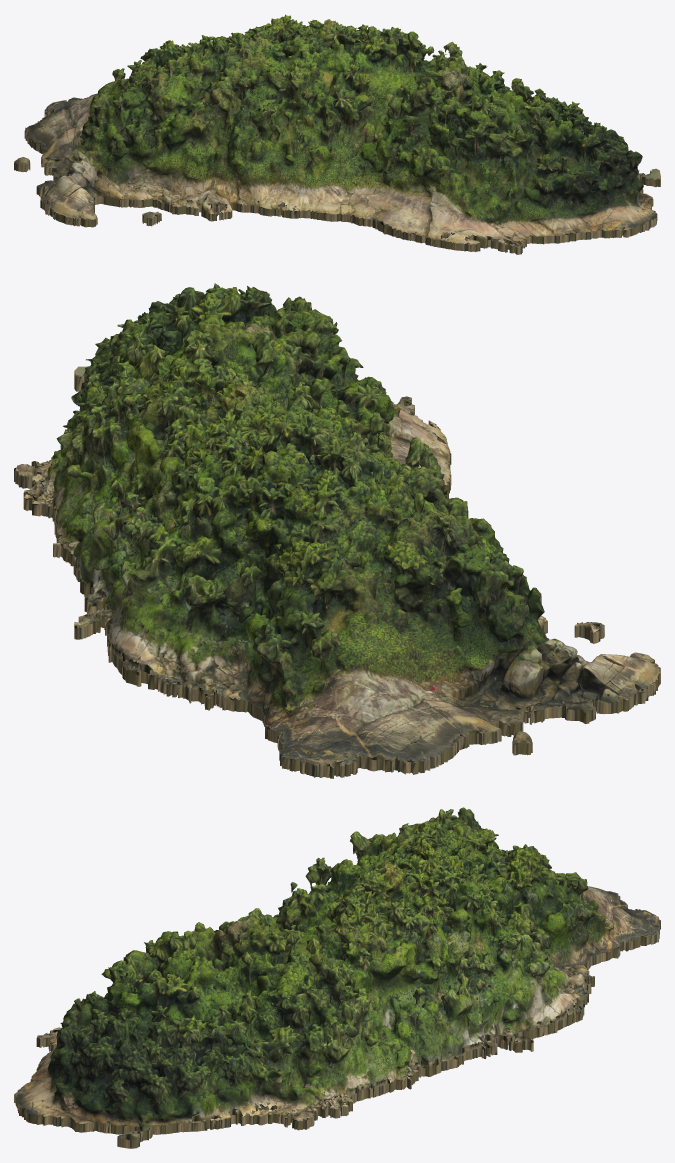
File: urubuquecaba.glb
The picture shows the model from 3 angles, top to bottom: view 1: azimuth 30°, elevation 25°; view 2: azimuth 150°, elevation 25°; view 3: azimuth 270°, elevation 25°; orthographic projection. The views are drawn at different scales.
Visible parts, largest first — view 1: urubuquecaba; view 2: urubuquecaba; view 3: urubuquecaba.
Boxes of the visible parts, x1=… form: urubuquecaba: x1=14, y1=14, x2=660, y2=254; urubuquecaba: x1=14, y1=283, x2=660, y2=778; urubuquecaba: x1=14, y1=807, x2=660, y2=1148.
Bounding box in the file's own units: 224 × 58.75 × 215.
3 materials, 3 textured.
